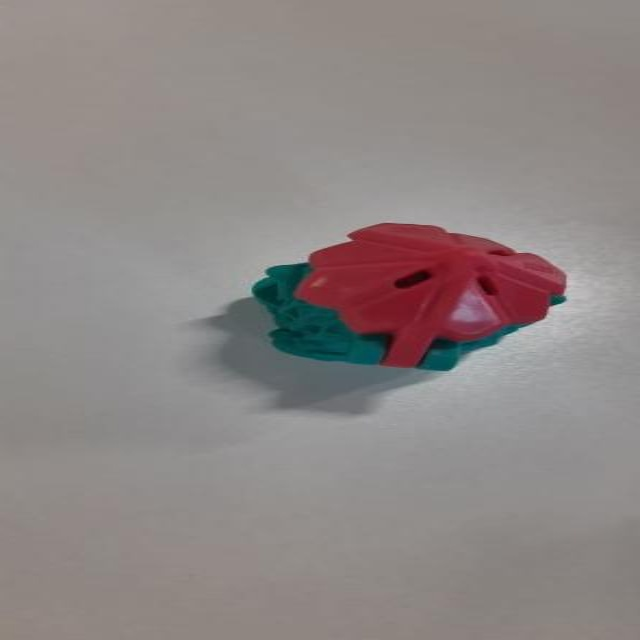House: (244, 223, 580, 375)
